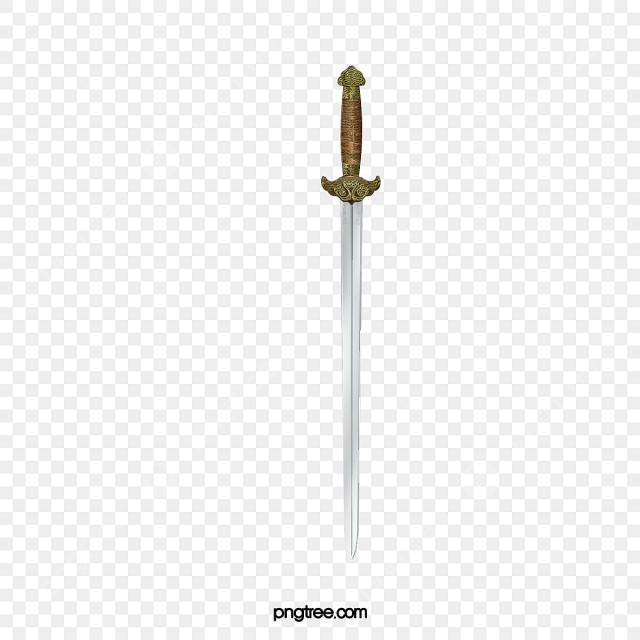sword: (316, 61, 389, 564)
